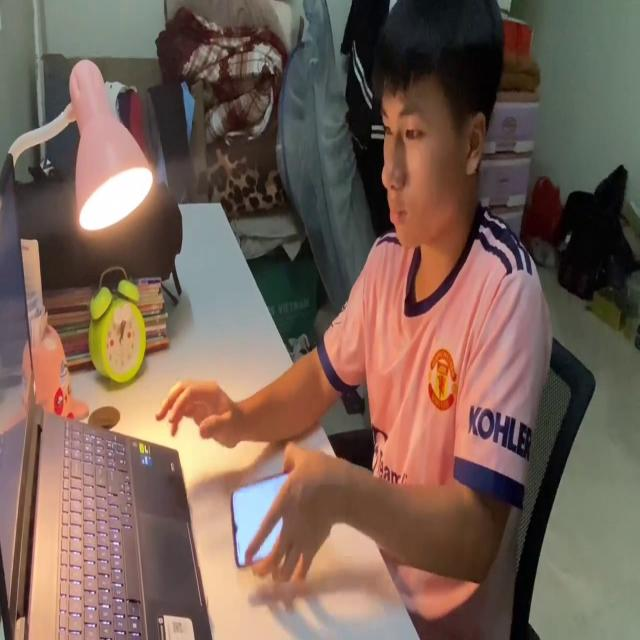laptop: (0, 148, 212, 640)
phone: (227, 470, 312, 572)
student: (155, 0, 553, 640)
